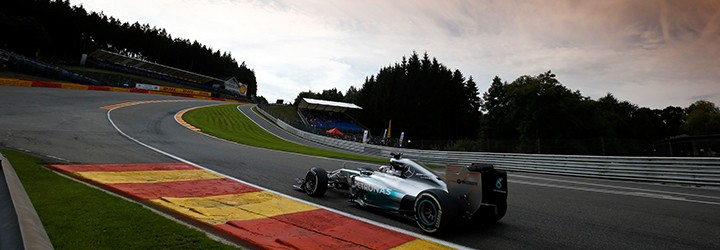race car: (290, 150, 511, 238)
